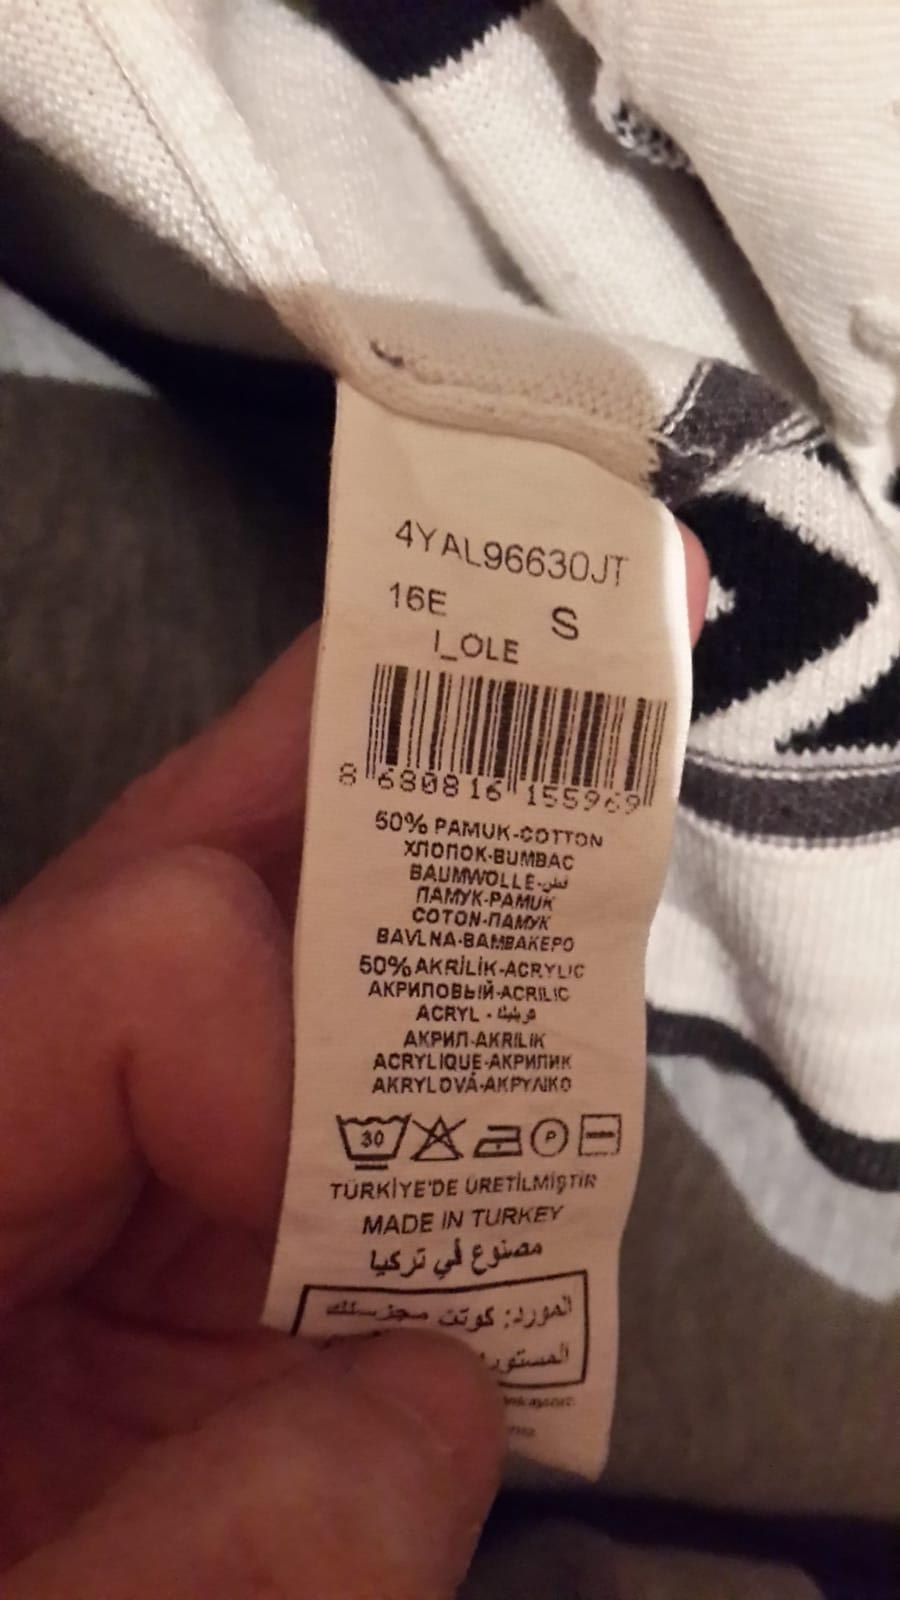do_not_bleach: (410, 1105, 469, 1171)
